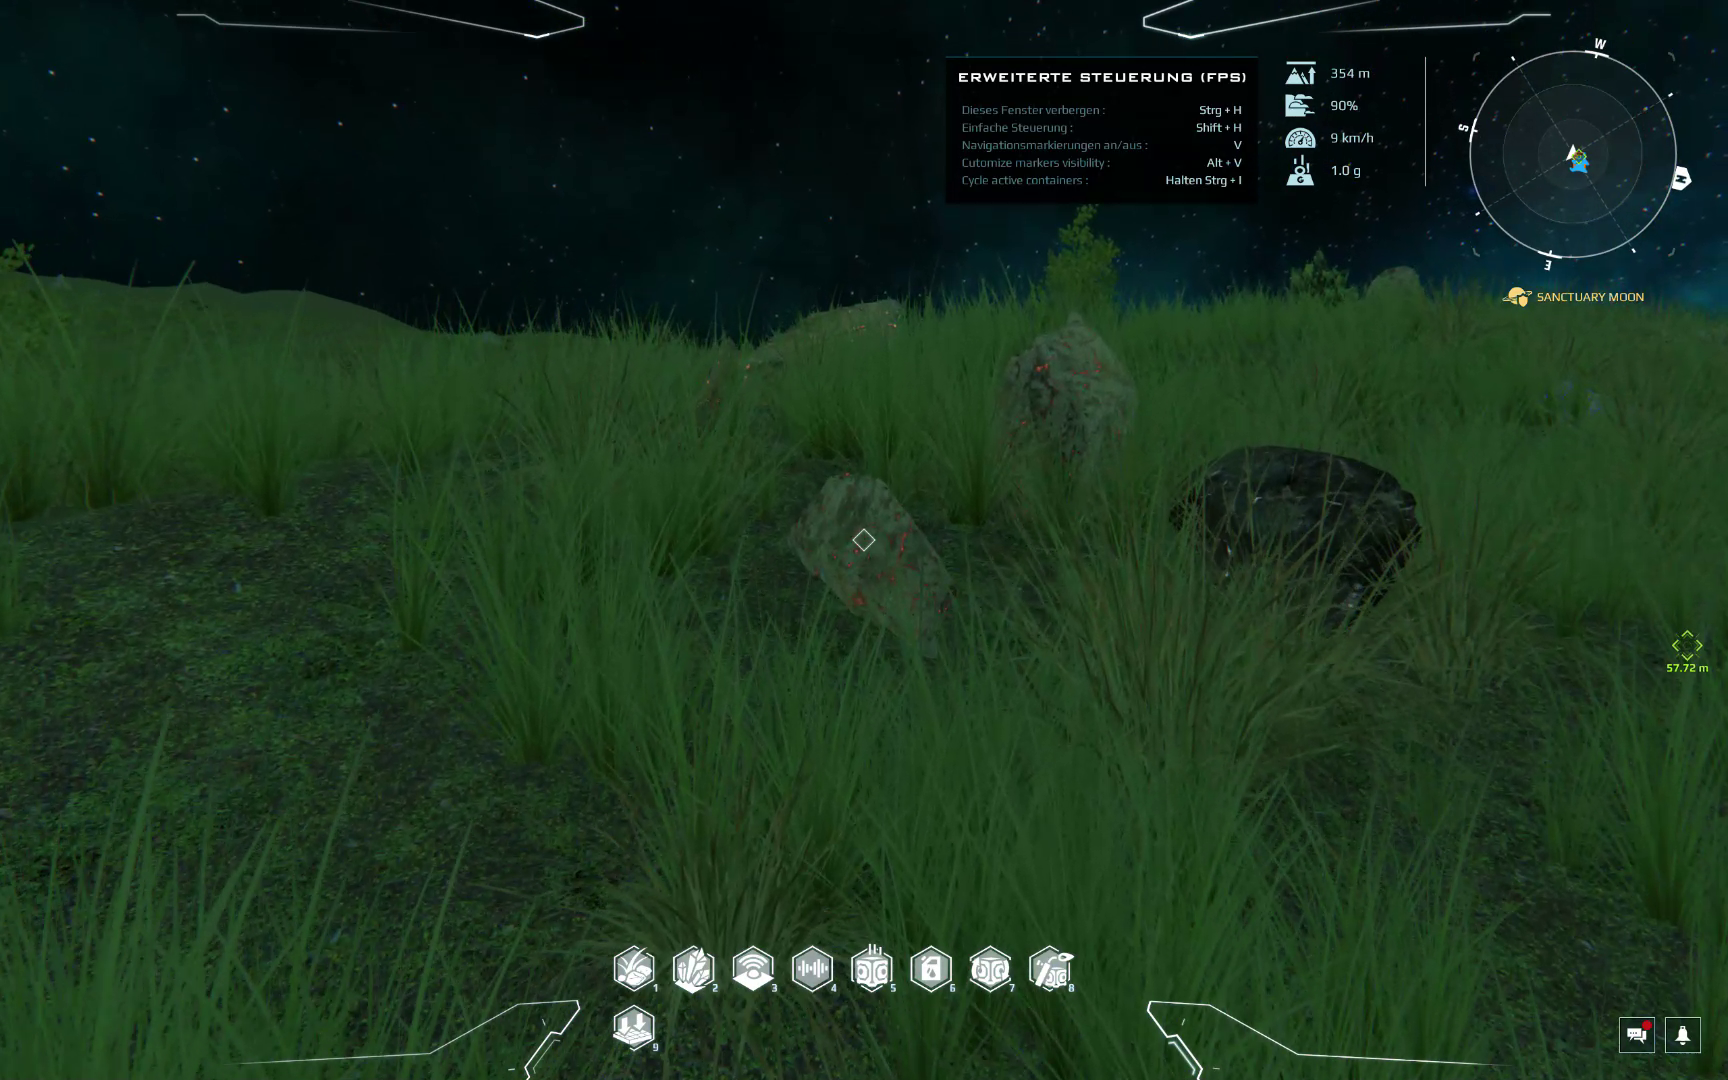Ore: (1169, 444, 1421, 628), (786, 469, 954, 663), (996, 322, 1135, 533), (735, 292, 906, 393)
